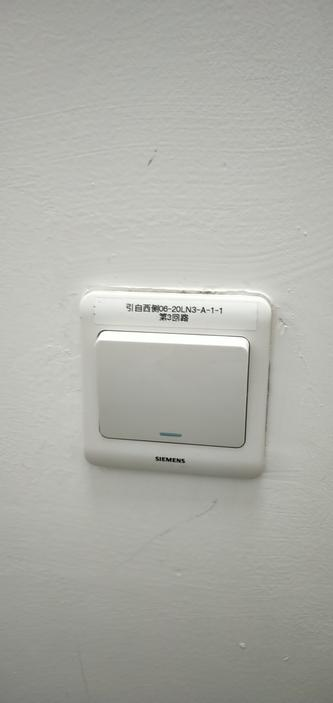switch: (90, 323, 255, 453)
